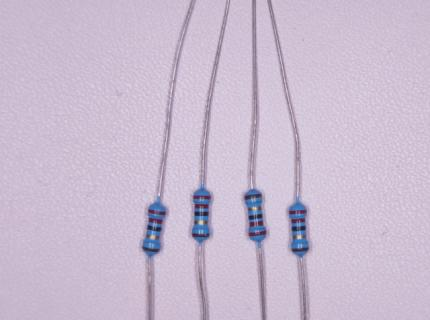Black band: (147, 224, 162, 232), (248, 214, 263, 220), (194, 211, 209, 216), (292, 226, 306, 231)
Brown band: (142, 246, 161, 253), (244, 194, 263, 200), (291, 247, 309, 252), (192, 233, 210, 237)
Gold band: (146, 233, 160, 240), (247, 206, 262, 212), (292, 234, 307, 239), (194, 220, 208, 225)
Red band: (148, 208, 166, 216), (148, 217, 163, 224), (193, 195, 211, 200), (249, 221, 264, 227), (248, 231, 266, 236), (291, 218, 305, 224), (288, 210, 307, 214), (194, 204, 209, 209)
